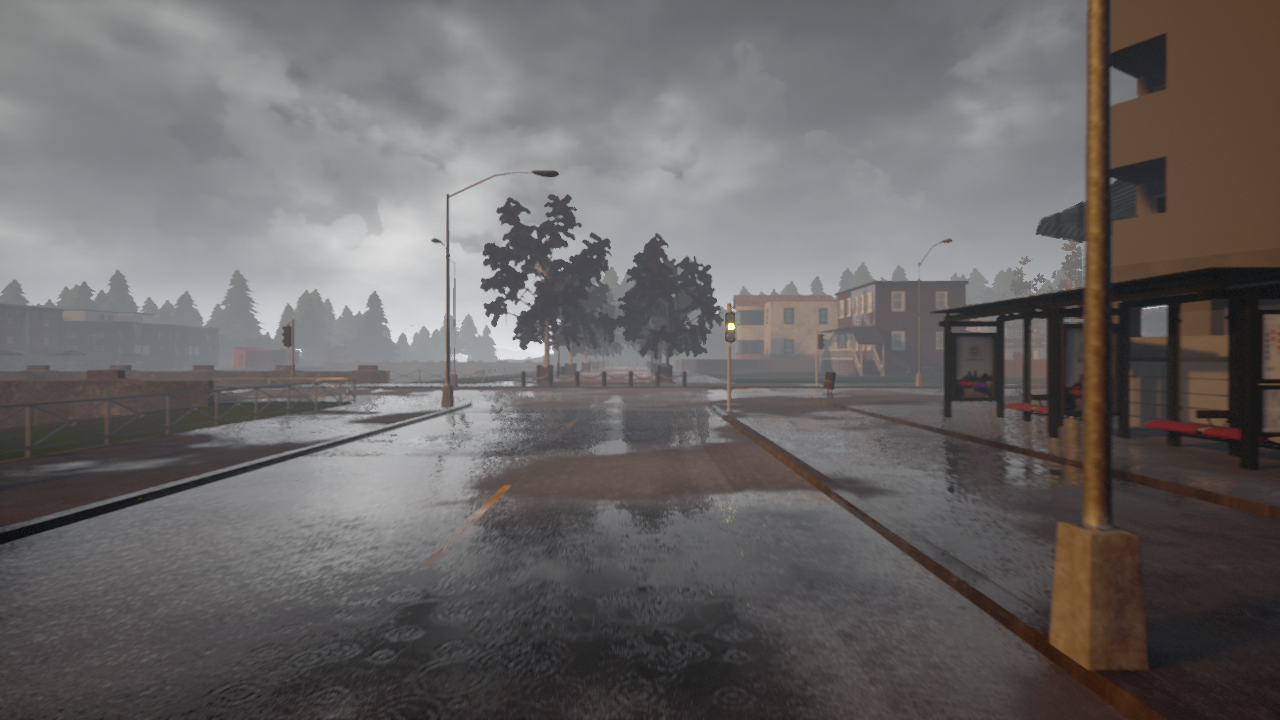yellow: (723, 310, 736, 343)
